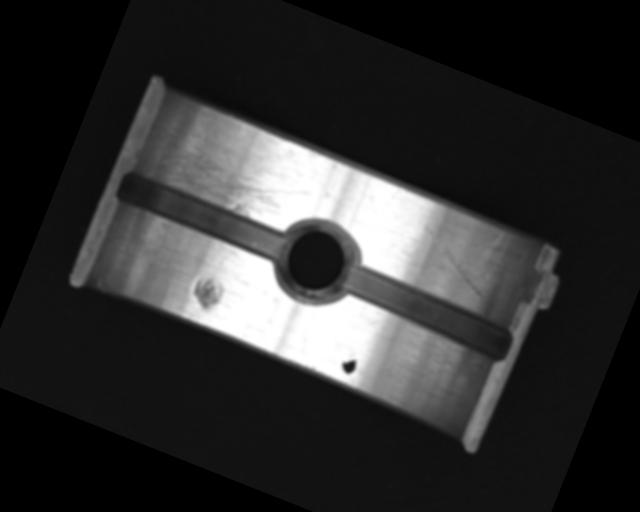blot: (338, 350, 360, 377)
bruise: (188, 273, 230, 314)
gap: (337, 261, 520, 366), (111, 165, 294, 267)
hole: (262, 207, 368, 317)
nick: (406, 222, 502, 301)
scratch: (139, 109, 322, 237)
